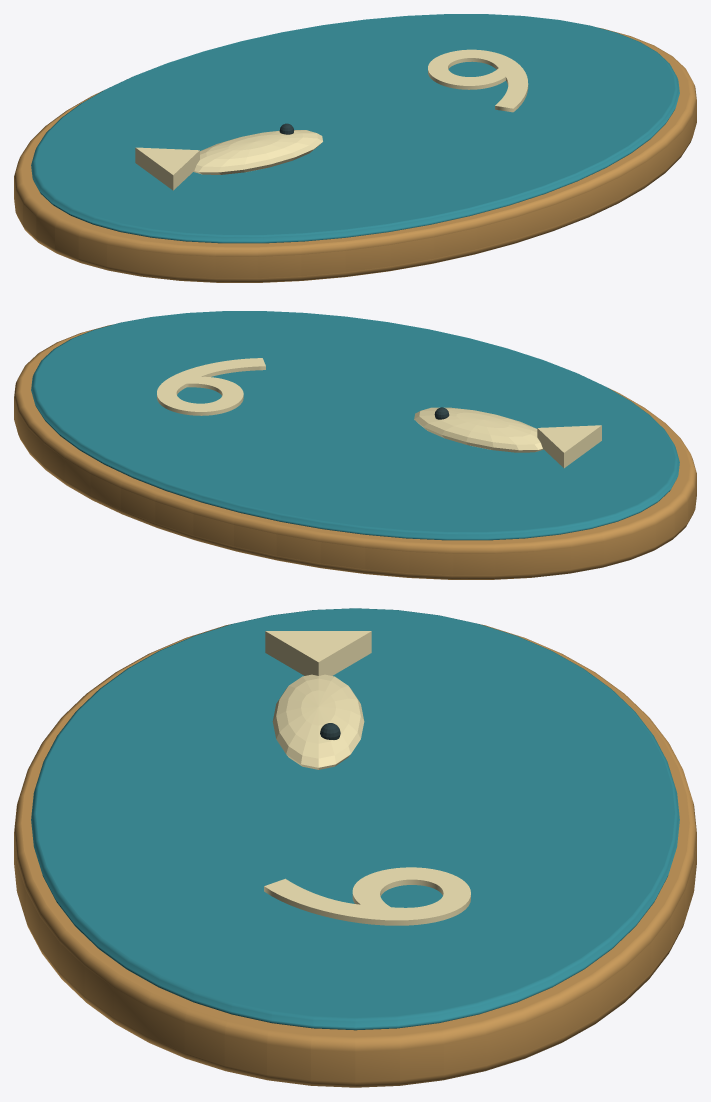
Rendered from ground-9.fbx.
The picture shows the model from 3 angles, top to bottom: view 1: azimuth 30°, elevation 25°; view 2: azimuth 150°, elevation 25°; view 3: azimuth 270°, elevation 25°; orthographic projection. The views are drawn at different scales.
Parts seen in each view (by area): view 1: ground-9; view 2: ground-9; view 3: ground-9.
Boxes of the visible parts, x1=… form: ground-9: x1=14, y1=14, x2=696, y2=282; ground-9: x1=14, y1=311, x2=696, y2=579; ground-9: x1=14, y1=608, x2=696, y2=1087.
Size of the model in its own units: 2.8 by 0.288 by 1.85.
